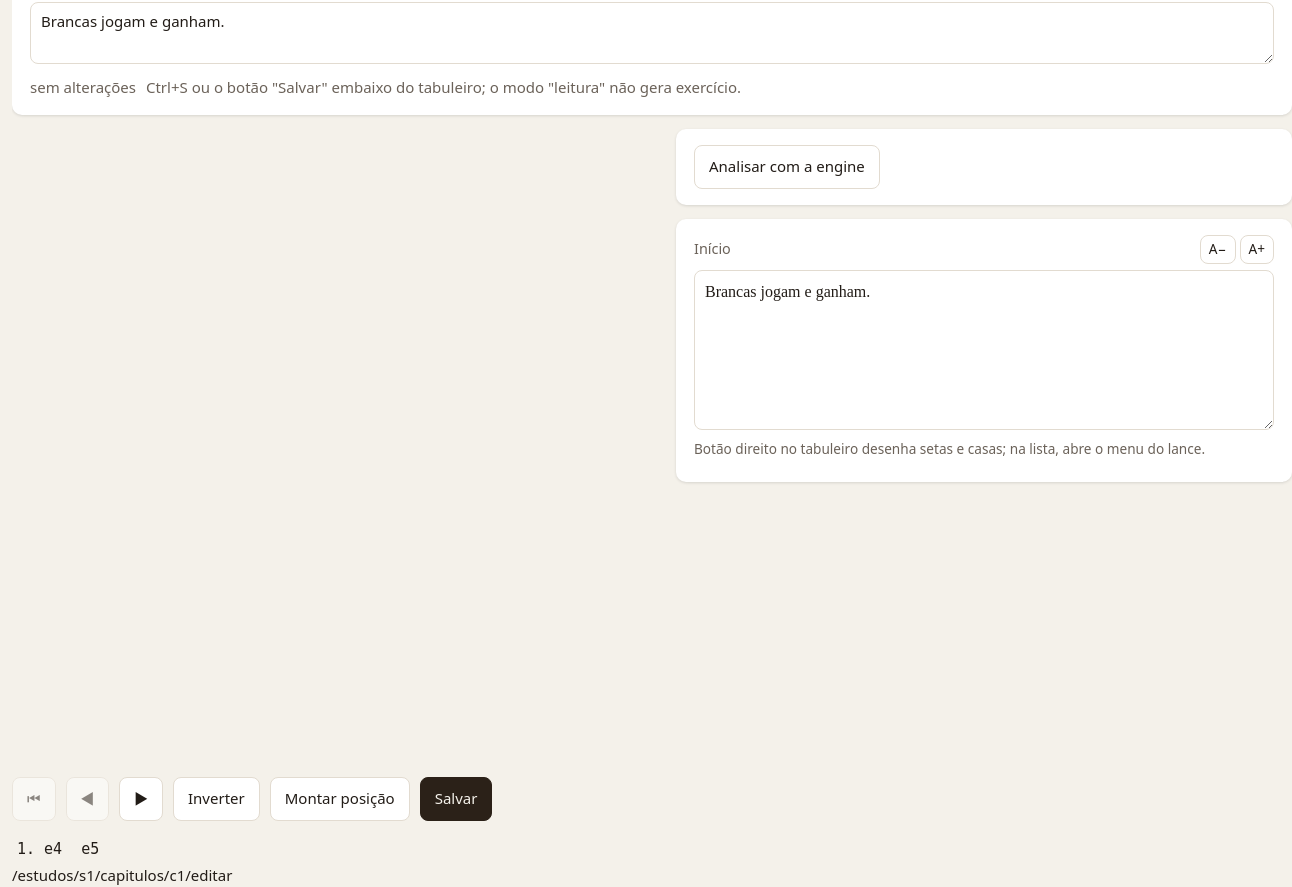
Test: edição no meio do caminho manda mais que a resposta do servidor
(page scrolled)
Step 1. Click the button "Salvar" → (456, 799), box [420,777,492,821]
(page scrolled)
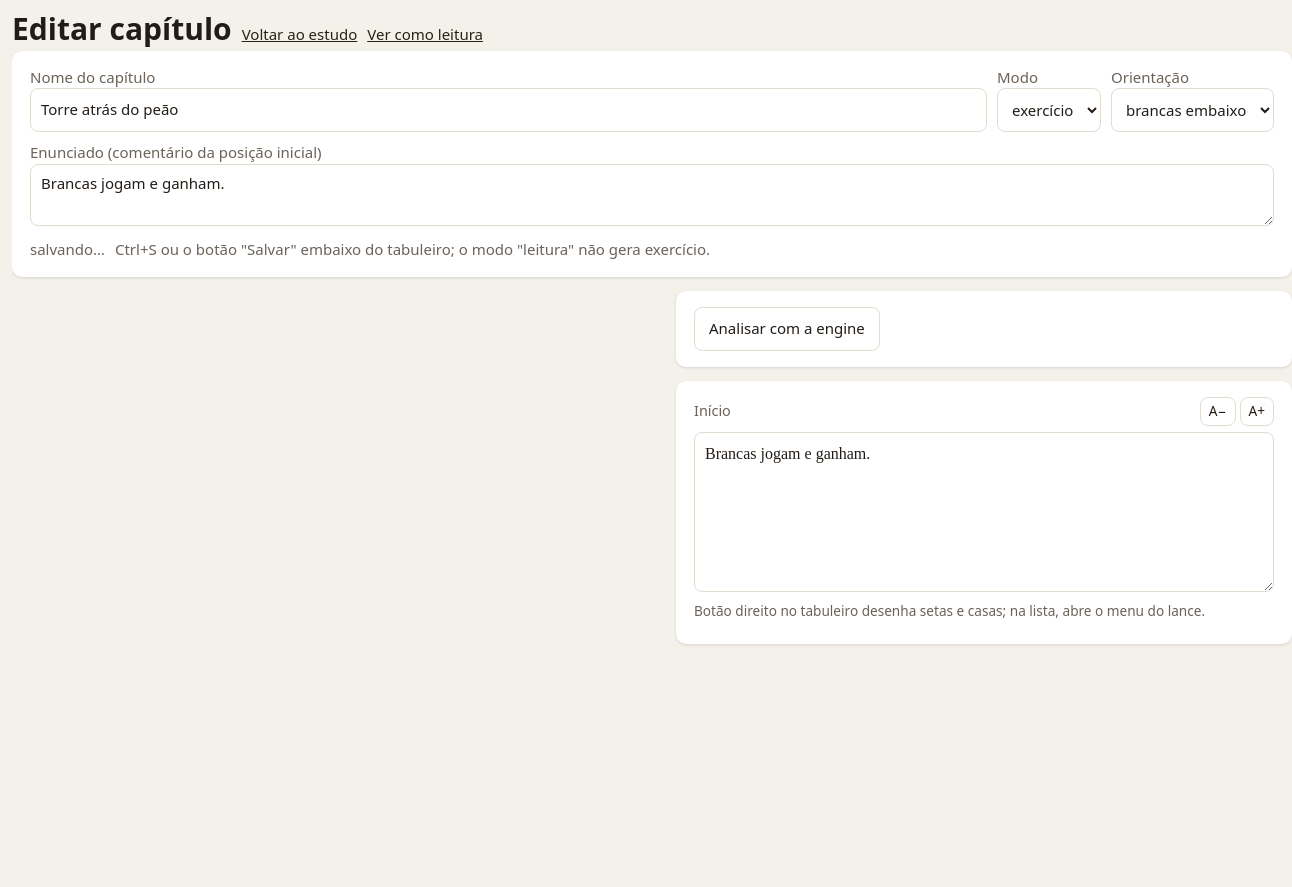
Step 2. Replace the text in the field labelled "Nome do capítulo" with "Digitado depois" → (508, 110), box [30,88,987,132]
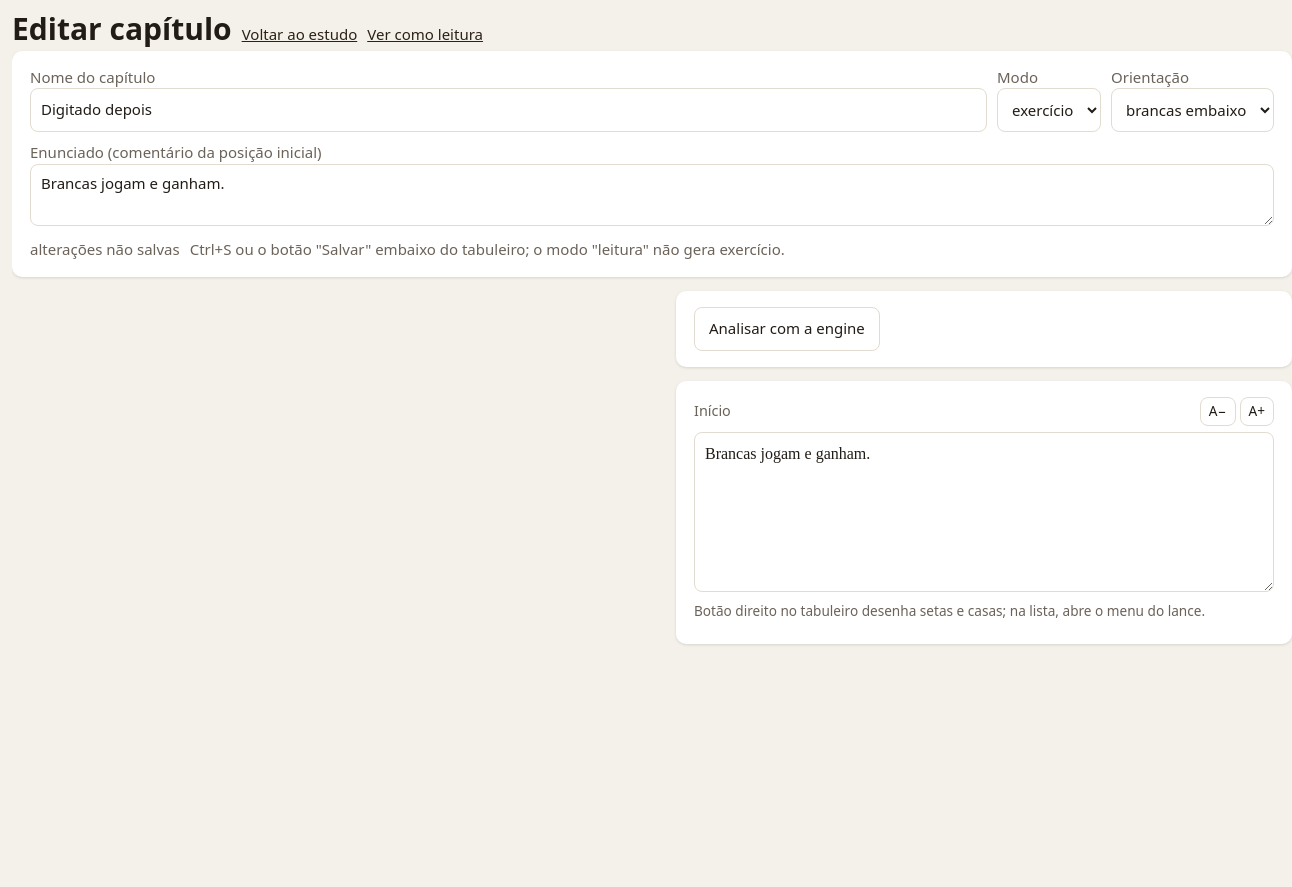
Now the text "alterações não salvas" is shown, box [30,239,180,261]
